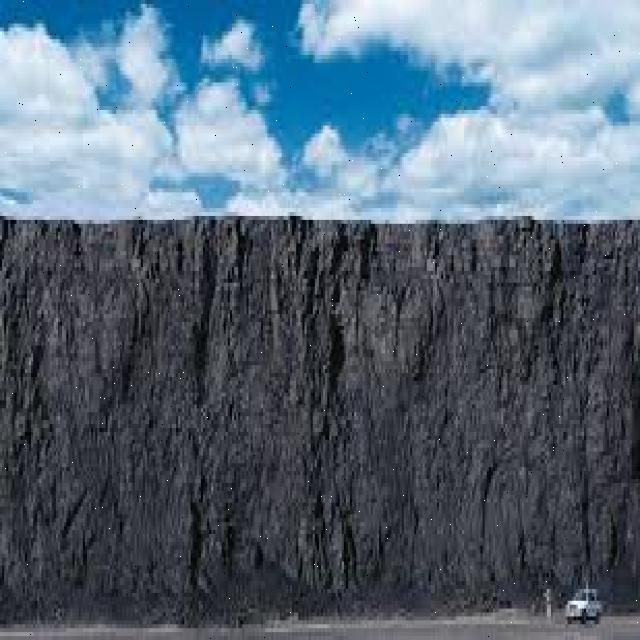Sedimentary: (2, 220, 640, 573)
